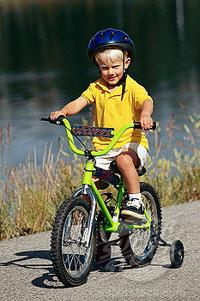person: (49, 27, 155, 246)
